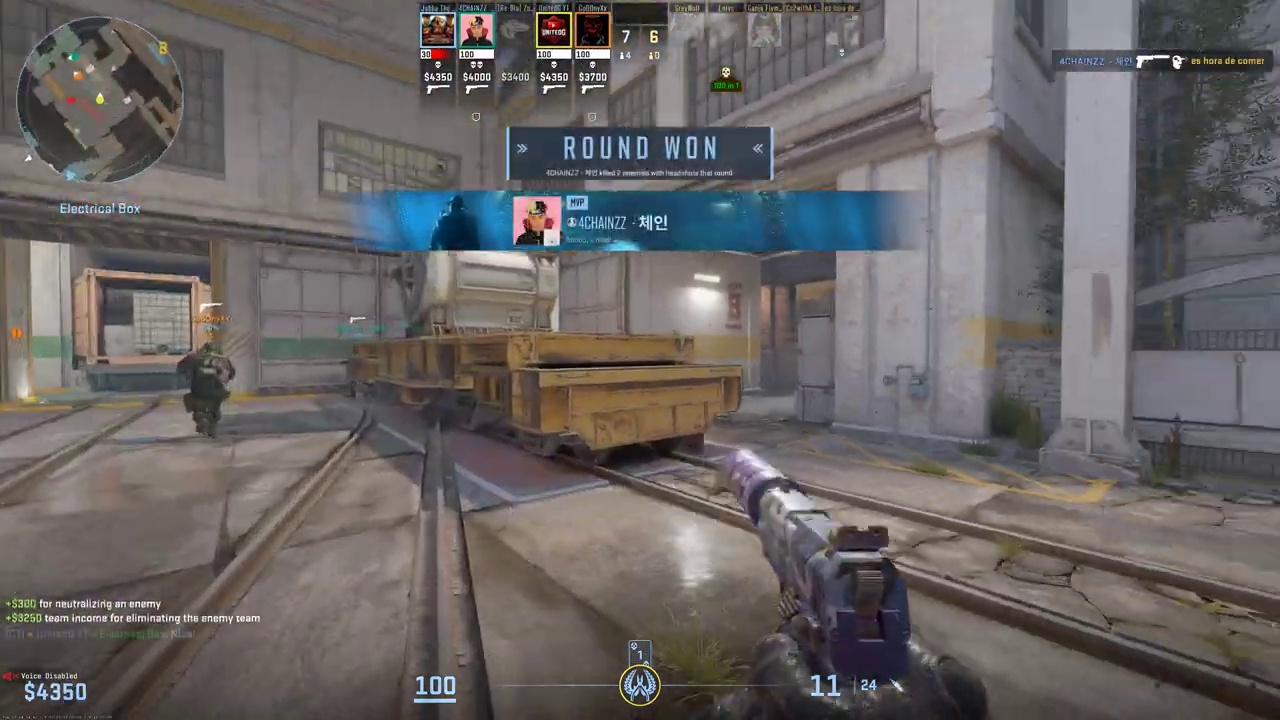CT: (185, 342, 230, 435)
